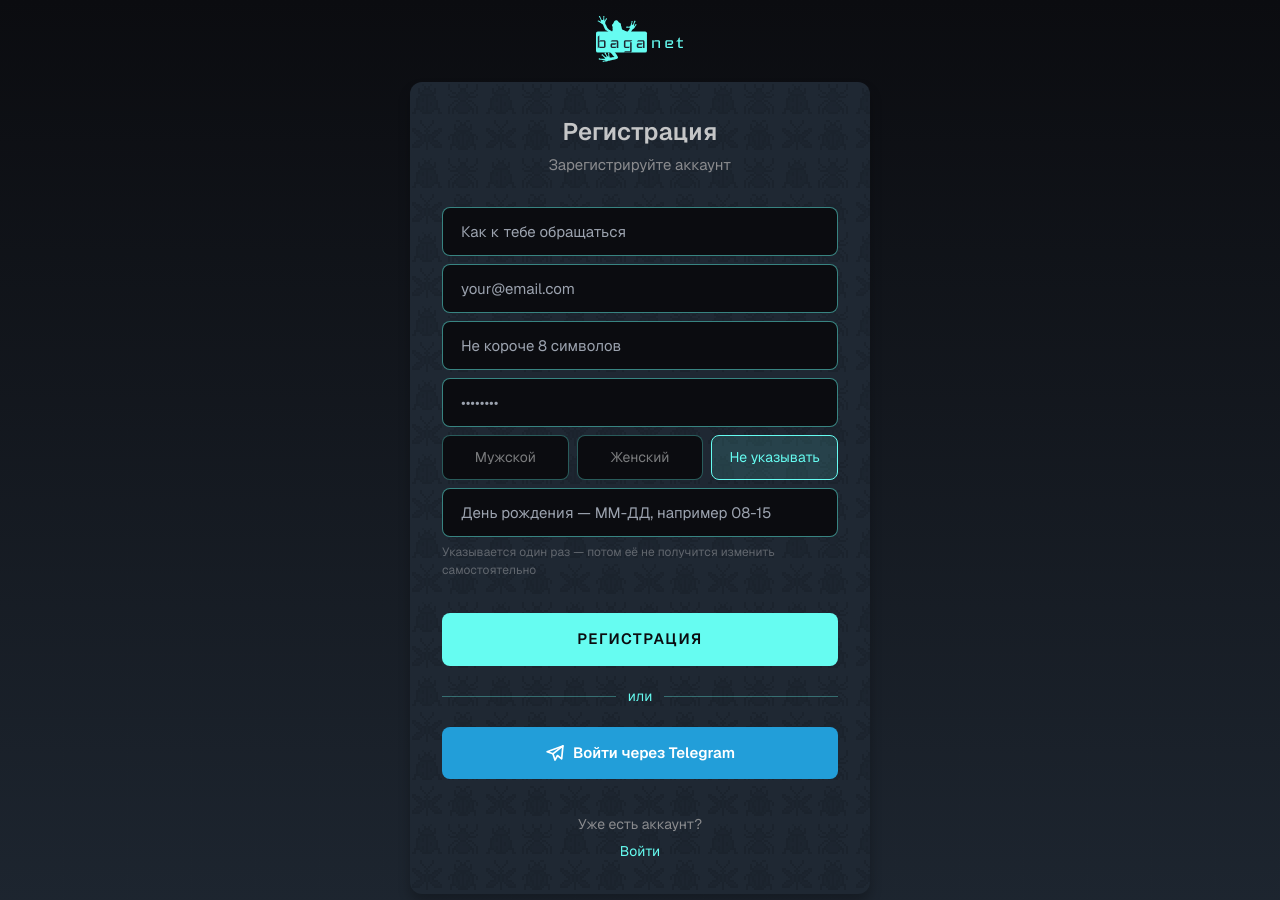
Test case: RegisterPage submission › surfaces the server's refusal — this is how a blocked email domain reaches the user
Type "Новичок" into the field with placeholder "Как к тебе обращаться" at (640, 231), box [442, 206, 838, 256]
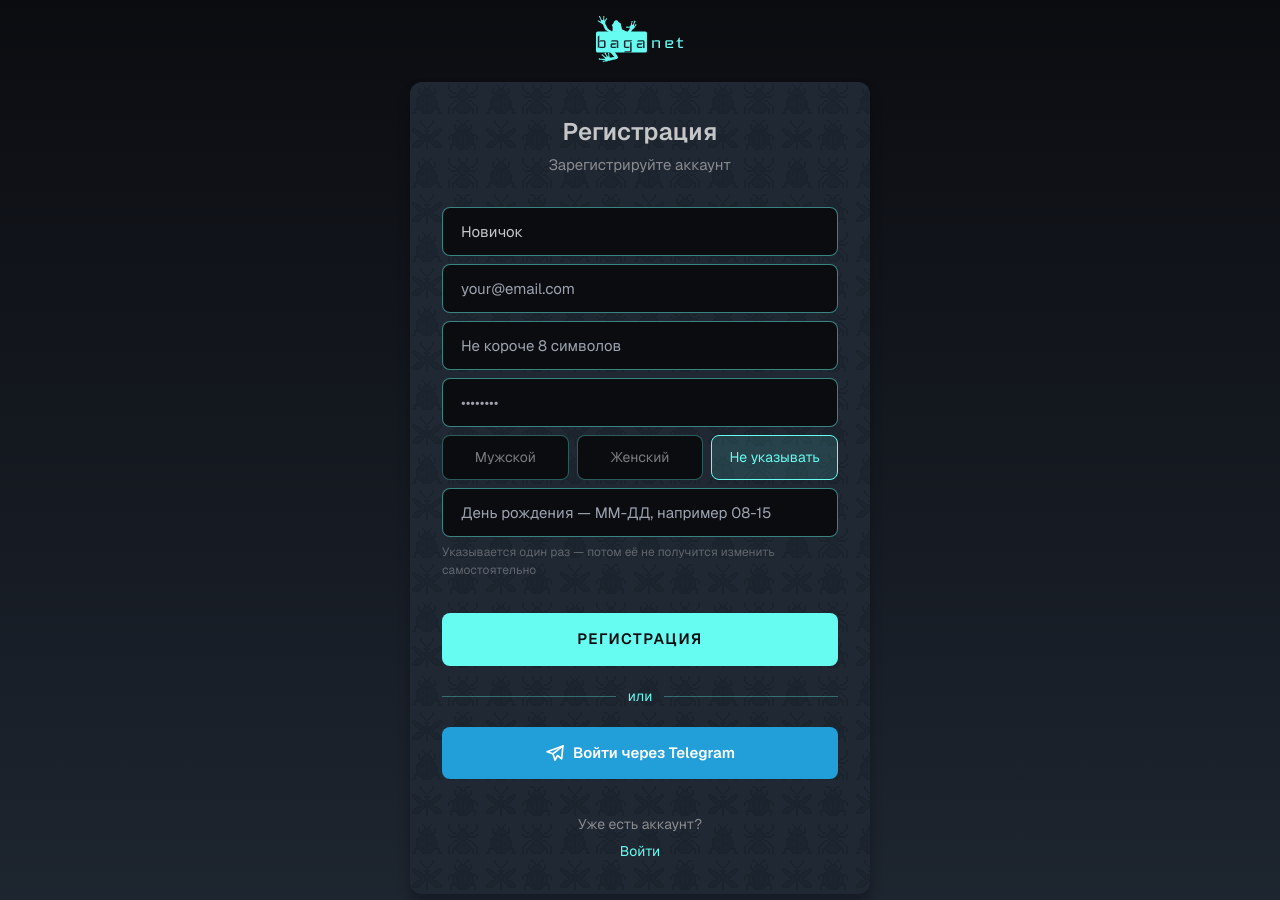
Type "new@qa.com" into the field with placeholder "your@email.com" at (640, 288), box [442, 264, 838, 312]
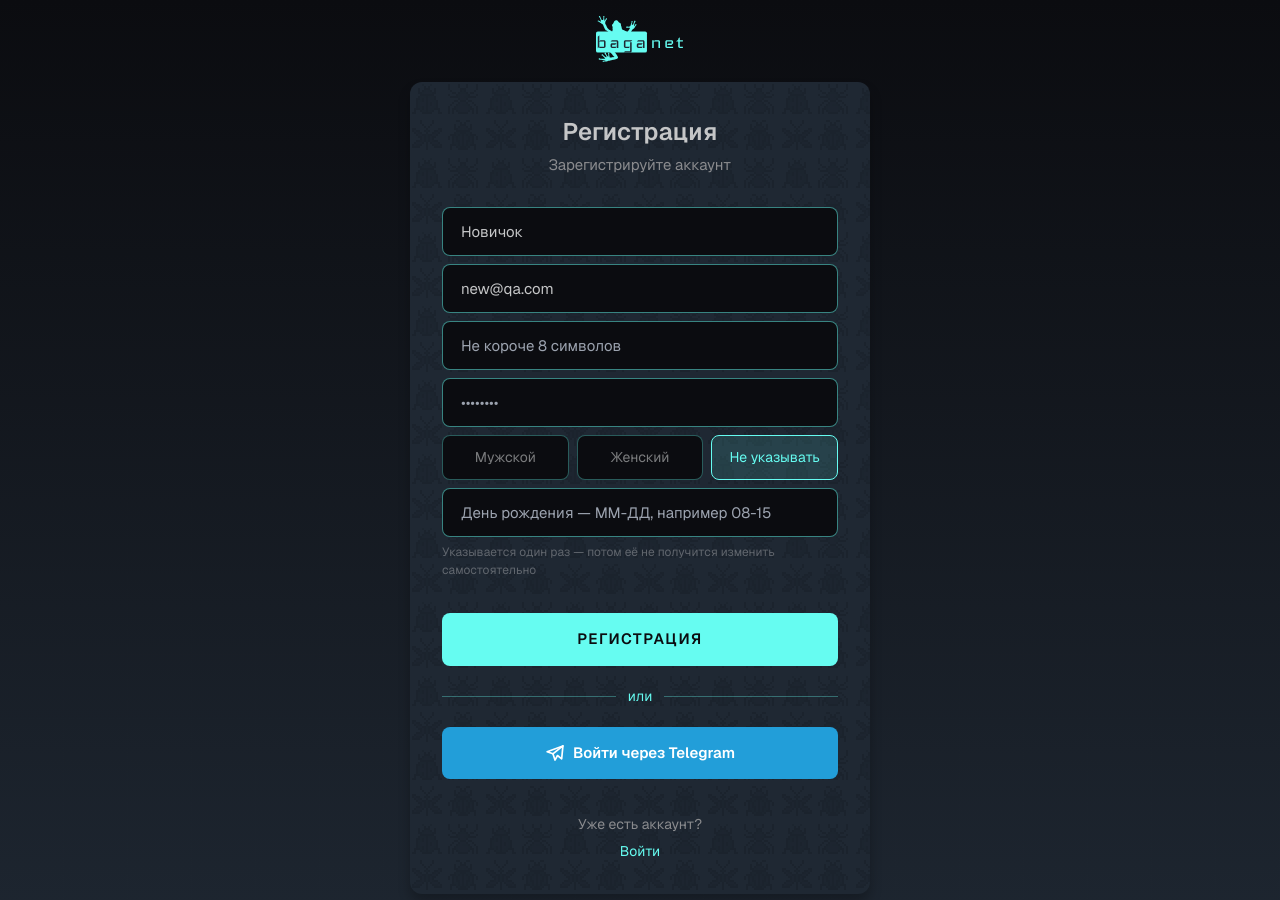
Type "longenough1" into the password field with placeholder "Не короче 8 символов" at (640, 345), box [442, 320, 838, 370]
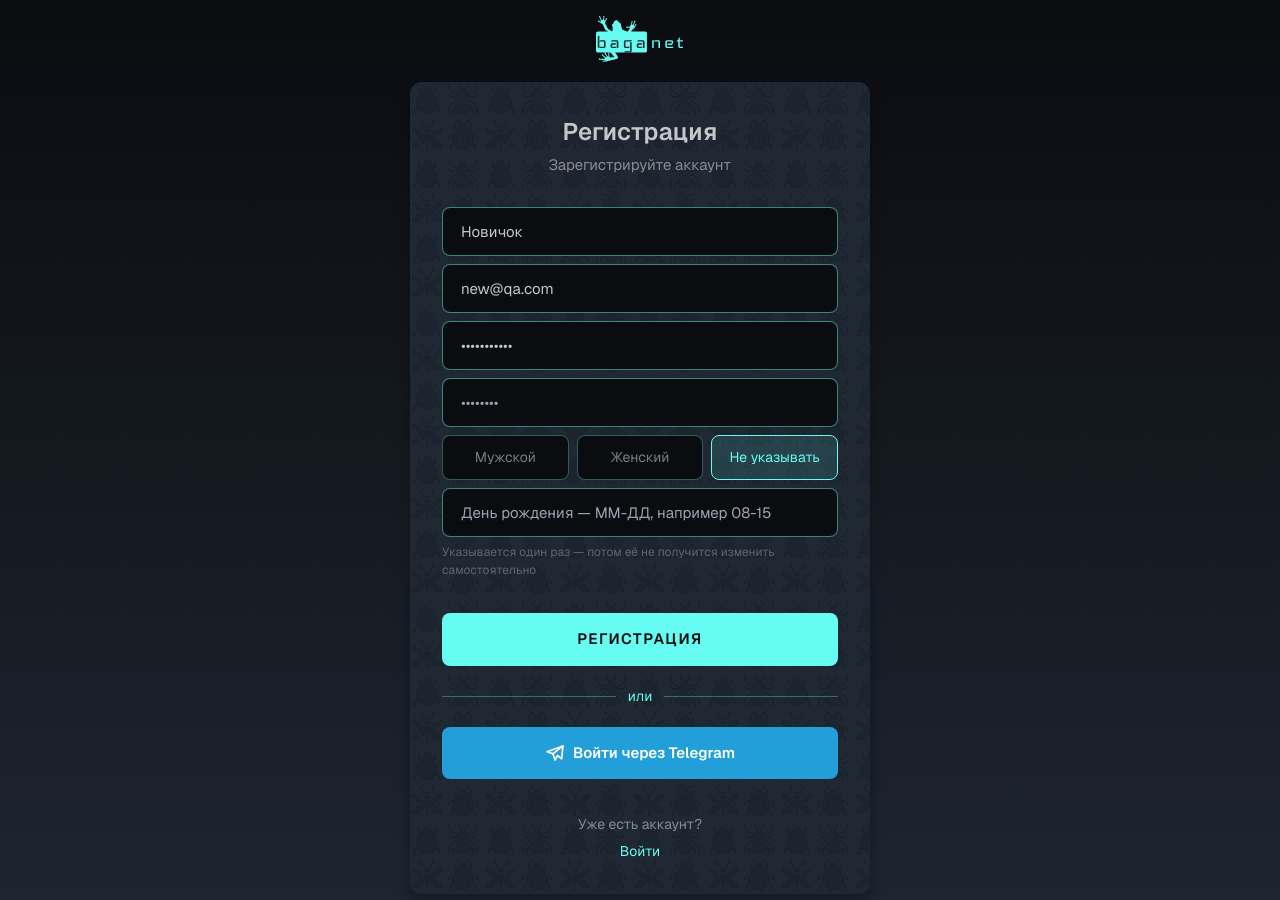
Type "longenough1" into the password field with placeholder "••••••••" at (640, 402), box [442, 378, 838, 426]
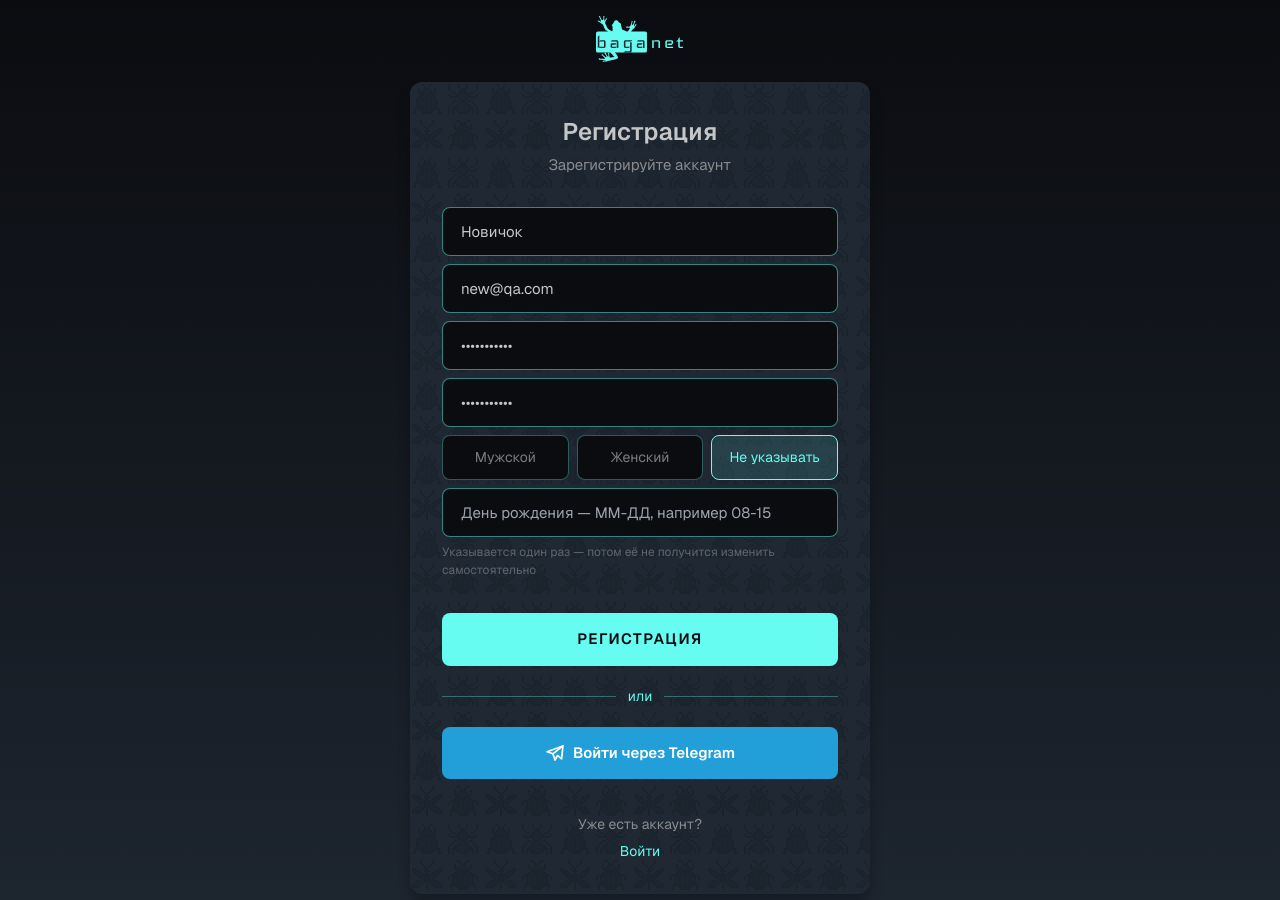
Click the button "Регистрация" at (640, 639), box [442, 613, 838, 666]
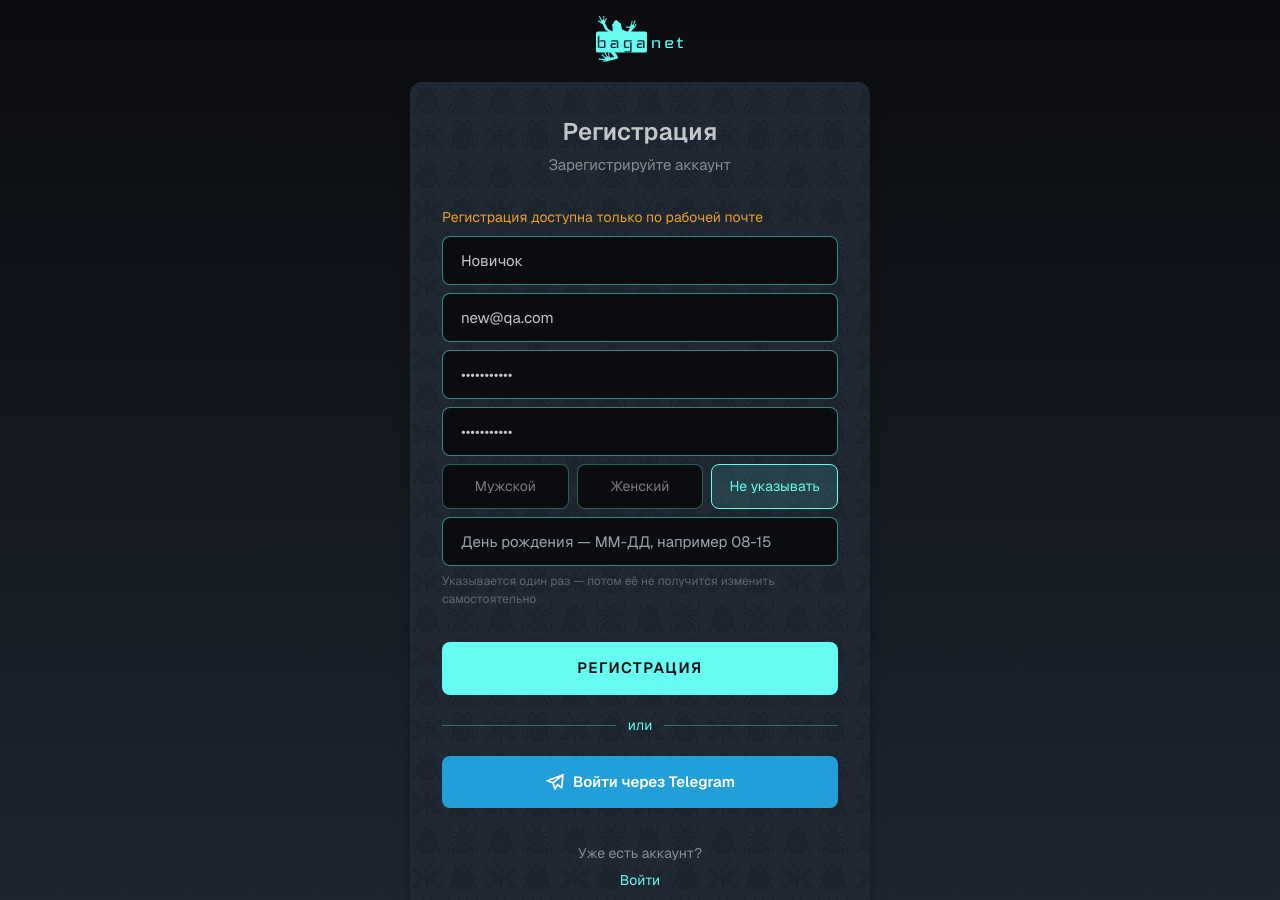
Expected: the text "Регистрация доступна только по рабочей почте" is shown, [442, 208, 763, 226]
